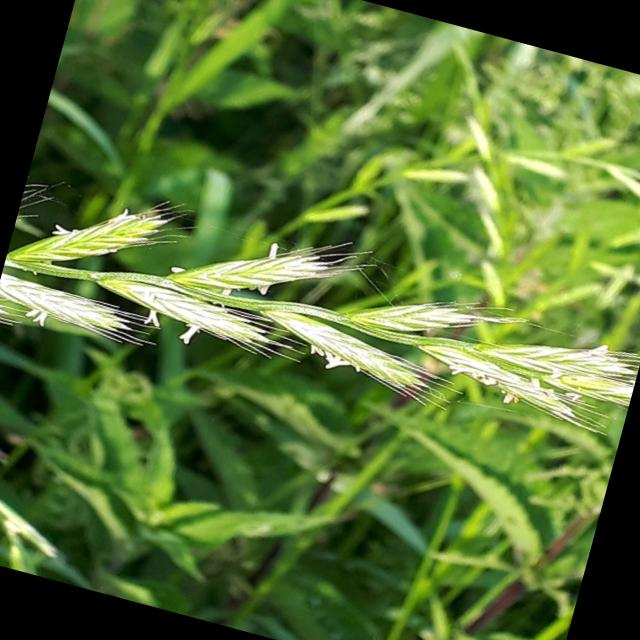Lolium: (0, 155, 640, 487)
